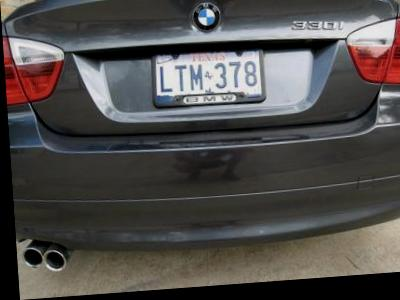License_Plate: (151, 41, 264, 106)
